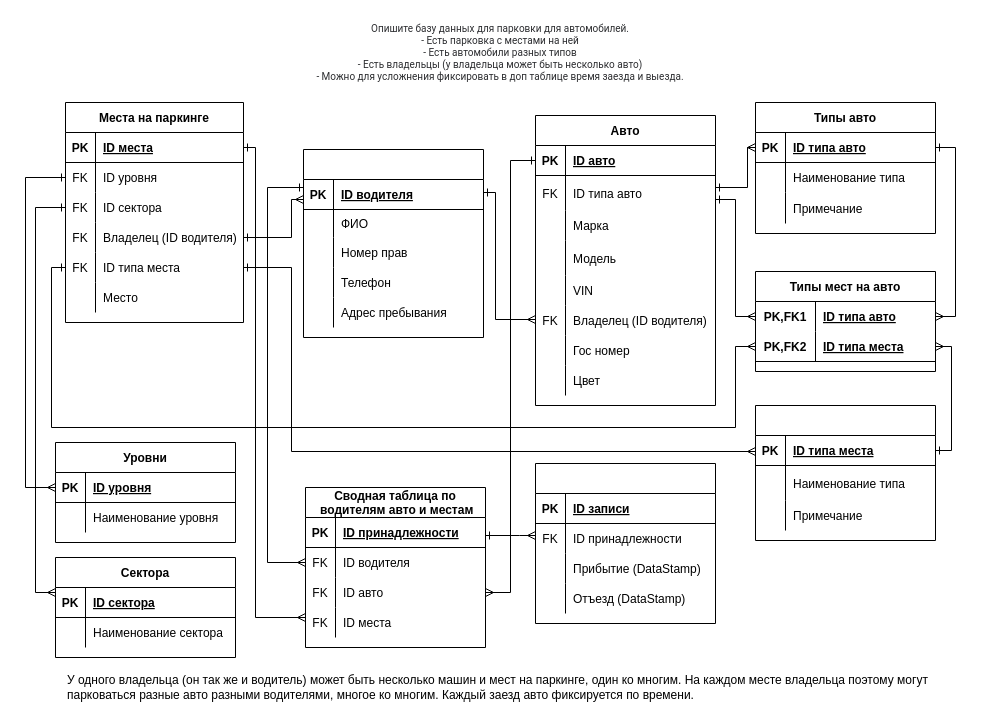
This 983x724 diagram has some shape labels left out. Here are the shapes that lost their labels. From the top down, the box of each, then its label:
(302, 148, 484, 338): Водители
(754, 404, 936, 540): Типы мест
(534, 462, 716, 624): Сводная таблица по фиксации времени заезда
